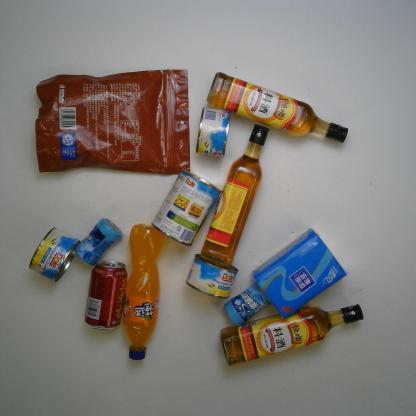Canned Food: (150, 167, 226, 248), (28, 225, 82, 284), (183, 251, 240, 302), (194, 104, 234, 160)
Dried Food: (29, 66, 193, 180)
Drink: (120, 216, 168, 364), (83, 258, 129, 333)
Gum: (72, 215, 126, 268), (221, 280, 274, 328)
Seasoner: (196, 121, 277, 270), (202, 68, 352, 146), (218, 301, 366, 368)
Tissue: (248, 224, 351, 321)
